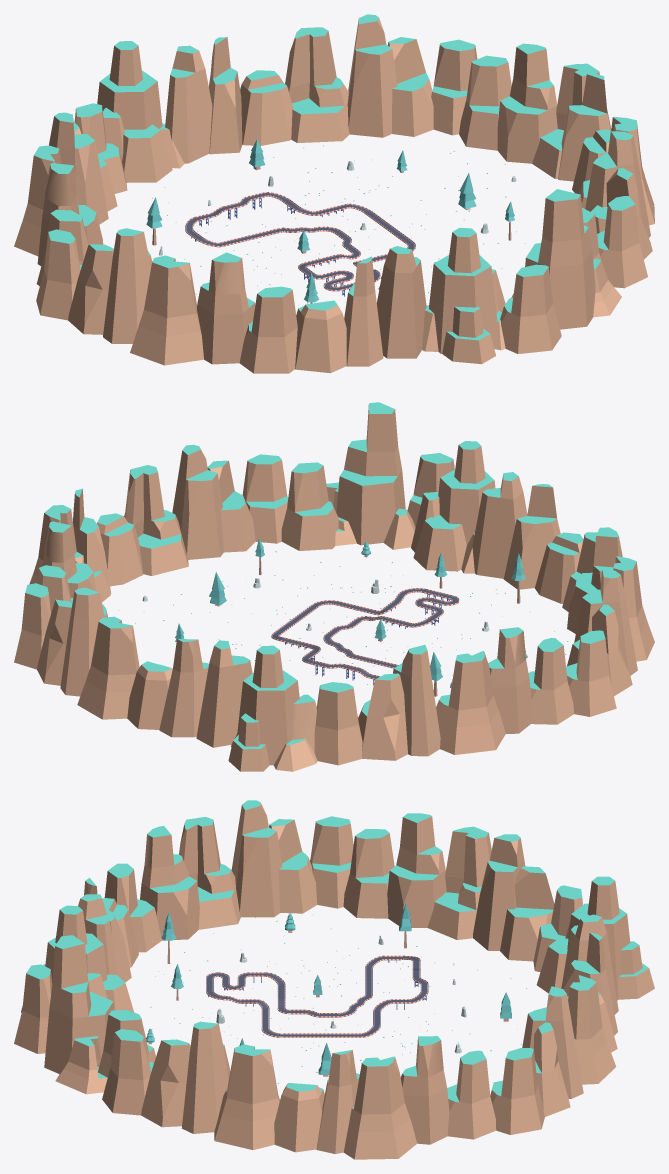
The model's file is track.glb.
3 views of the same model, one above another, from view 1: azimuth 30°, elevation 25°; view 2: azimuth 150°, elevation 25°; view 3: azimuth 270°, elevation 25° (orthographic). The views are drawn at different scales.
Visible parts, largest first — view 1: rock_tallB, rock_tallB.001, rock_tallA, rock_tallH.002, rock_tallH, rock_tallG.002, rock_tallI.002, rock_tallG, rock_tallC, rock_tallC.001, rock_tallI, rock_tallF.003 (+23 smaller); view 2: rock_tallA, rock_tallB.001, rock_tallB, rock_tallH.001, rock_tallH.002, rock_tallI.003, rock_tallH.004, rock_tallF.009, rock_tallC.001, rock_tallC, rock_tallJ.001, rock_tallF.005 (+24 smaller); view 3: rock_tallA, rock_tallH.003, rock_tallH.004, rock_tallB.001, rock_tallG.001, rock_tallI, rock_tallH.001, rock_tallG, rock_tallH, rock_tallI.003, rock_tallG.002, rock_tallI.001 (+23 smaller).
Boxes of the visible parts, x1,y1,x2,y2 form: rock_tallB: (422,227,505,364); rock_tallB.001: (97,41,184,182); rock_tallA: (511,189,621,329); rock_tallH.002: (285,27,349,142); rock_tallH: (130,255,203,365); rock_tallG.002: (497,43,557,163); rock_tallI.002: (347,14,397,137); rock_tallG: (197,252,255,364); rock_tallC: (376,246,426,358); rock_tallC.001: (165,45,212,163); rock_tallI: (103,228,152,343); rock_tallF.003: (500,264,561,353); rock_tallA: (326,402,415,549); rock_tallB.001: (228,645,317,771); rock_tallB: (411,441,495,573); rock_tallH.001: (436,651,505,754); rock_tallH.002: (77,616,139,719); rock_tallI.003: (172,444,223,559); rock_tallH.004: (124,465,188,575); rock_tallF.009: (281,462,338,550); rock_tallC.001: (196,640,252,747); rock_tallC: (472,472,527,578); rock_tallJ.001: (358,673,407,760); rock_tallF.005: (314,682,362,765); rock_tallA: (44,935,114,1094); rock_tallH.003: (343,1056,416,1159); rock_tallH.004: (214,1044,280,1149); rock_tallB.001: (536,876,654,1000); rock_tallG.001: (387,813,446,927); rock_tallI: (231,800,282,917); rock_tallH.001: (427,826,491,939); rock_tallG: (140,826,199,940); rock_tallH: (179,817,240,929); rock_tallI.003: (181,1021,230,1133); rock_tallG.002: (400,1036,449,1144); rock_tallI.001: (473,834,525,950).
Bounding box in the file's own units: 166 × 33.79 × 161.
88 materials, 19 textured.
